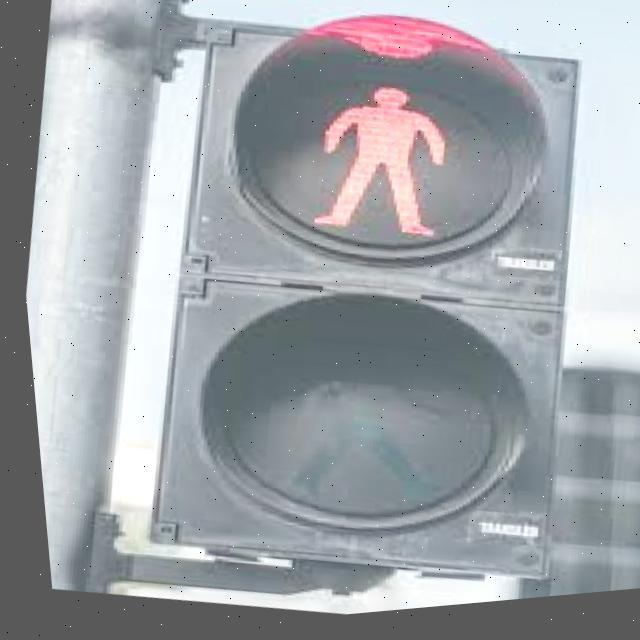red_light: (272, 52, 471, 260)
